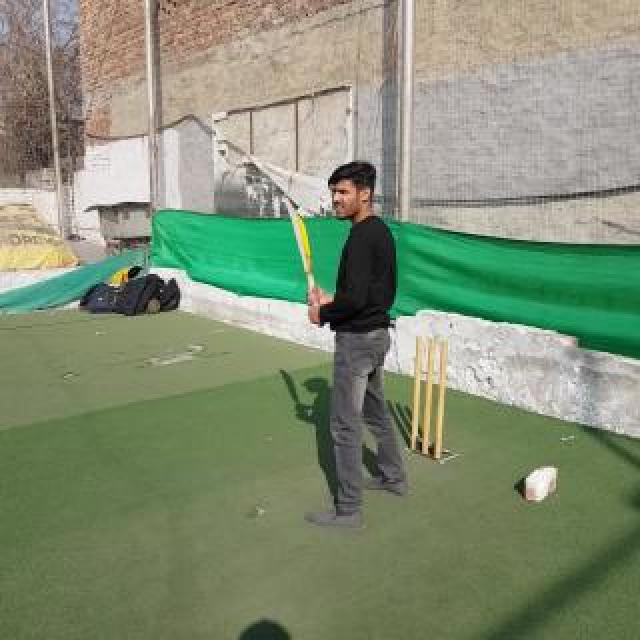bat: (286, 197, 324, 327)
